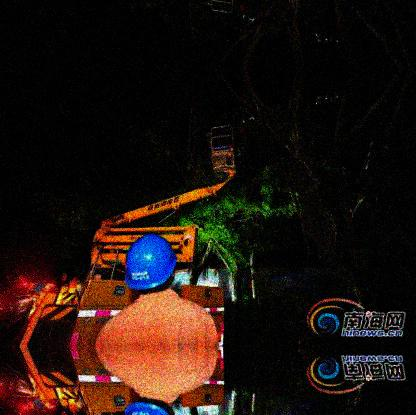helmet: (122, 235, 180, 296)
